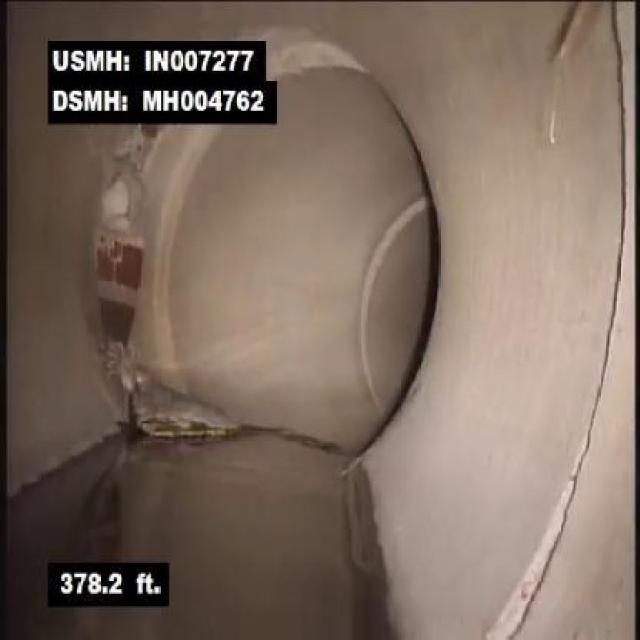Joint offset: (94, 134, 228, 421)
